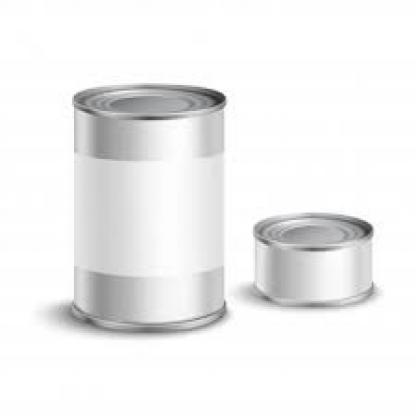METAL: (72, 85, 226, 331), (252, 211, 374, 307)
